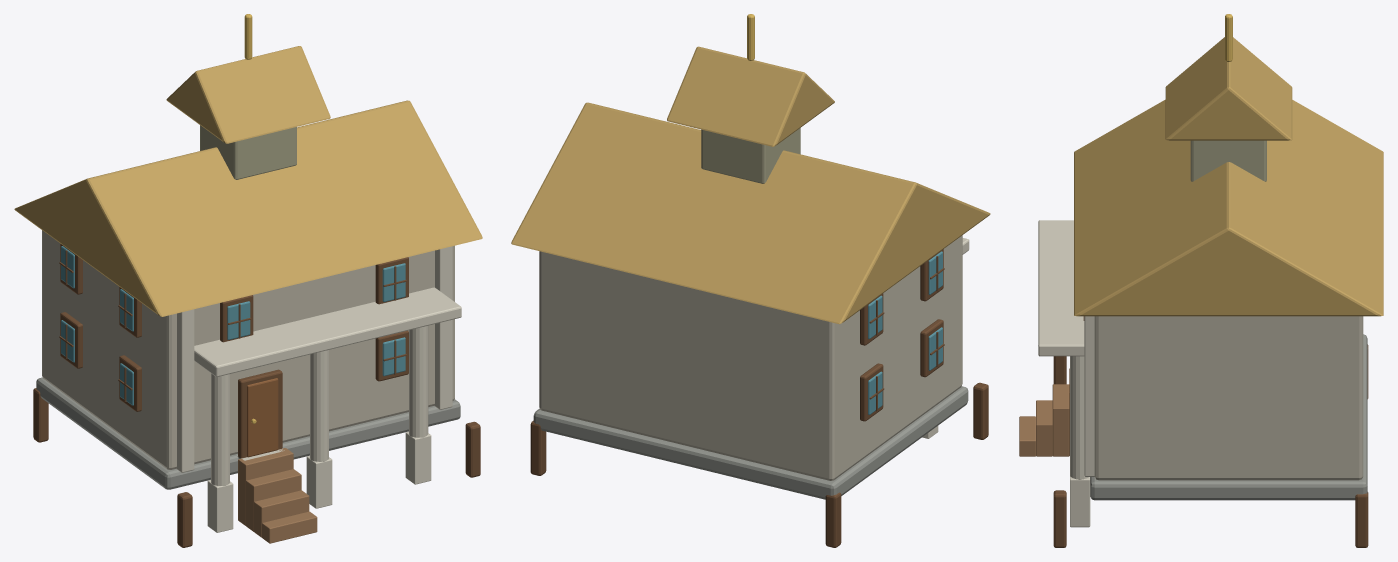
Rendered from wetland-civic-1.glb.
3 renders of one model, left to right at view 1: azimuth 30°, elevation 25°; view 2: azimuth 150°, elevation 25°; view 3: azimuth 270°, elevation 25°, orthographic. The views are drawn at different scales.
Visible parts, largest first — view 1: Golden thatch, Warm civic stone, Cut limestone, Dark beams, Foundation stone, Aged oak, Blue glass, Weathered planks, Door oak; view 2: Golden thatch, Warm civic stone, Foundation stone, Dark beams, Weathered planks, Blue glass; view 3: Golden thatch, Warm civic stone, Cut limestone, Foundation stone, Aged oak, Weathered planks, Dark beams.
Boxes of the visible parts, x1=… form: Golden thatch: x1=14, y1=46, x2=482, y2=316; Warm civic stone: x1=42, y1=230, x2=454, y2=469; Cut limestone: x1=176, y1=246, x2=461, y2=532; Dark beams: x1=33, y1=244, x2=480, y2=547; Foundation stone: x1=36, y1=377, x2=460, y2=489; Aged oak: x1=238, y1=448, x2=317, y2=543; Blue glass: x1=61, y1=246, x2=405, y2=405; Weathered planks: x1=200, y1=125, x2=296, y2=179; Door oak: x1=247, y1=378, x2=278, y2=457; Golden thatch: x1=511, y1=46, x2=990, y2=324; Warm civic stone: x1=539, y1=235, x2=962, y2=480; Foundation stone: x1=533, y1=386, x2=968, y2=499; Dark beams: x1=530, y1=249, x2=988, y2=547; Weathered planks: x1=701, y1=128, x2=800, y2=183; Blue glass: x1=868, y1=251, x2=942, y2=414; Golden thatch: x1=1074, y1=37, x2=1383, y2=316; Warm civic stone: x1=1094, y1=316, x2=1363, y2=480; Cut limestone: x1=1038, y1=220, x2=1094, y2=527; Foundation stone: x1=1090, y1=334, x2=1367, y2=500; Aged oak: x1=1019, y1=368, x2=1069, y2=456; Weathered planks: x1=1190, y1=140, x2=1266, y2=181; Dark beams: x1=1053, y1=316, x2=1368, y2=547.
Bounding box in the file's own units: 5.4 × 6.95 × 5.02.
